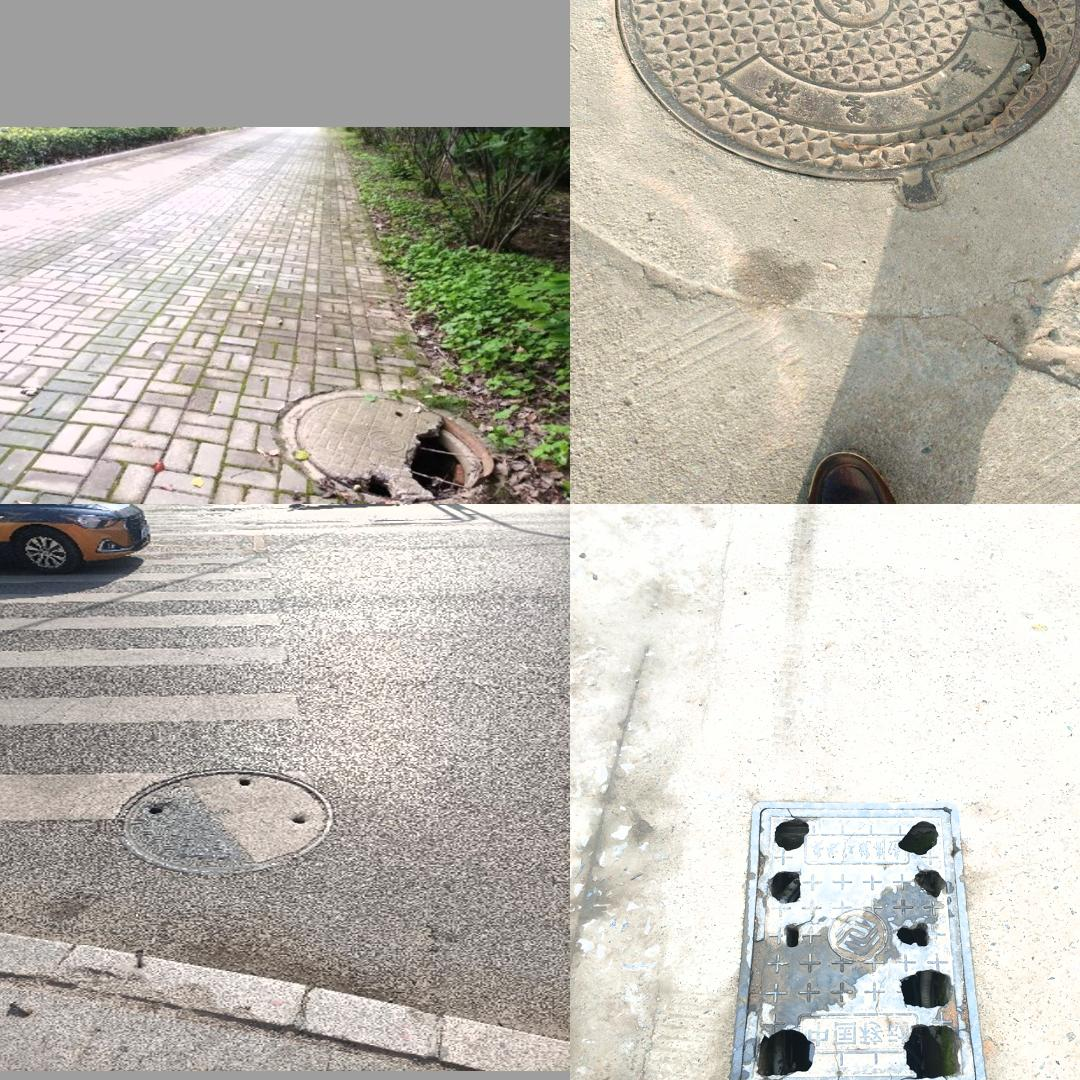broke: (612, 0, 1080, 213), (728, 802, 987, 1080), (279, 388, 496, 504), (115, 768, 334, 872)
